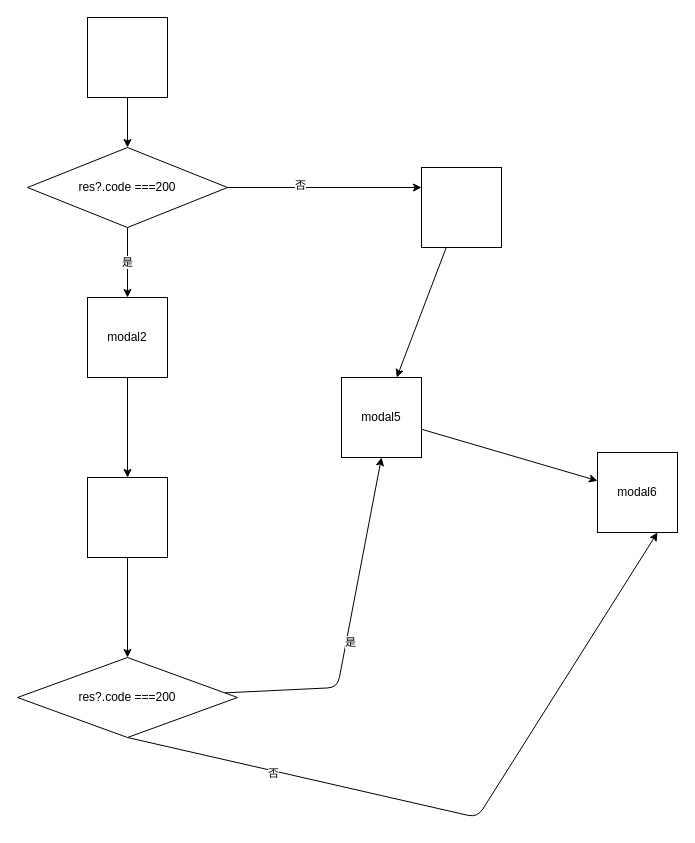
Some shapes in this 695 by 843 pixel diagram are drawn without their labels. The shapes that lost their labels are listed below. From the top down, each one's centre as x and y in pixels, then its label:
point 127,57: modal1
point 461,207: modal3
point 127,517: modal4
